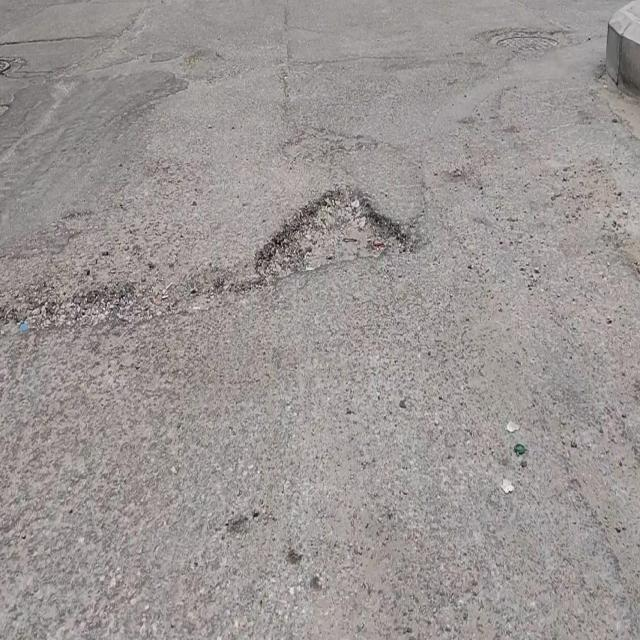Potholes: (243, 177, 405, 288)
